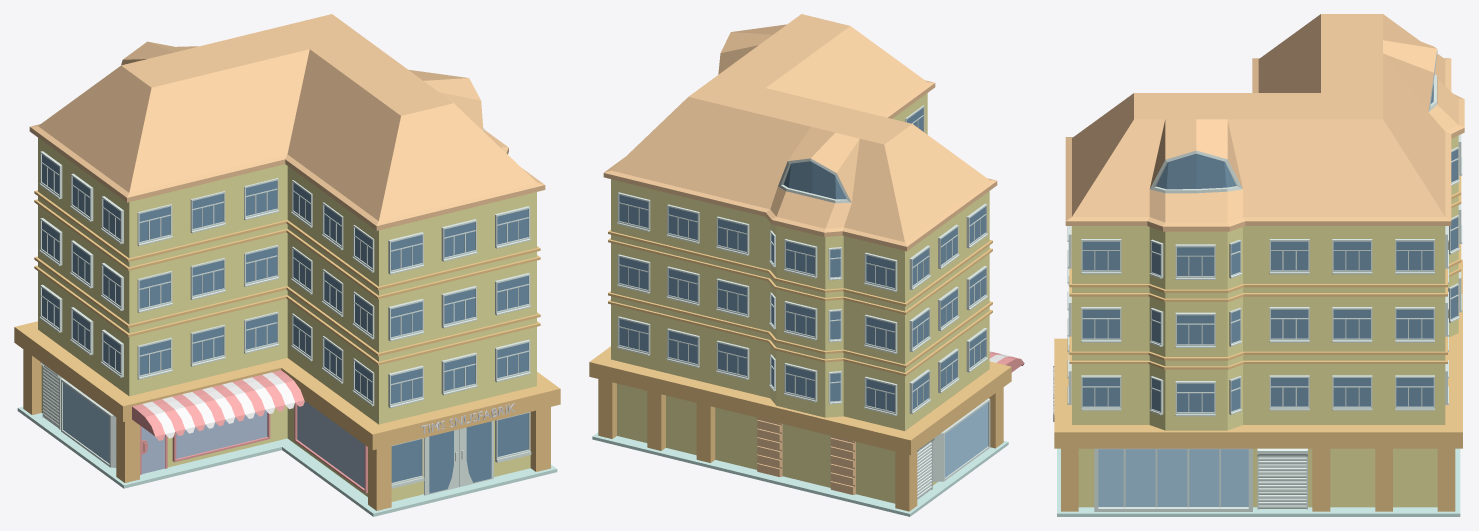
File: Tims_Snusfabrik.fbx
The picture shows the model from 3 angles, left to right: view 1: azimuth 30°, elevation 25°; view 2: azimuth 150°, elevation 25°; view 3: azimuth 270°, elevation 25°; orthographic projection. The views are drawn at different scales.
Visible parts, largest first — view 1: Building_facad.001, shed1.001, showcase.002, Cube.055, shed.001, Cube.052, Cube.056, Cube.069, Cube.065, Cube.063, Cube.064, Cube.051 (+23 smaller); view 2: Building_facad.001, showcase.002, Cube.062, Cube.059, Cube.057, Cube.058, blinds.002, Cube.063, glass.098, glass.095, glass.109, glass.101 (+23 smaller); view 3: Building_facad.001, showcase1.001, blinds.003, Cube.073, Cube.057, Cube.064, Cube.072, glass.130, glass.105, glass.135, glass.136, glass.137 (+25 smaller).
Boxes of the visible parts, <box> form: Building_facad.001: <box>14,14,560,516</box>; shed1.001: <box>132,370,304,440</box>; showcase.002: <box>61,378,116,467</box>; Cube.055: <box>297,401,364,488</box>; shed.001: <box>142,372,295,438</box>; Cube.052: <box>429,421,491,493</box>; Cube.056: <box>176,410,267,458</box>; Cube.069: <box>424,421,493,495</box>; Cube.065: <box>368,446,391,510</box>; Cube.063: <box>116,417,139,482</box>; Cube.064: <box>530,407,550,471</box>; Cube.051: <box>497,413,528,456</box>; Building_facad.001: <box>589,14,1011,516</box>; showcase.002: <box>932,398,990,481</box>; Cube.062: <box>895,451,917,511</box>; Cube.059: <box>696,403,715,462</box>; Cube.057: <box>598,379,616,438</box>; Cube.058: <box>647,391,665,450</box>; blinds.002: <box>917,438,934,499</box>; Cube.063: <box>989,387,1003,448</box>; glass.098: <box>668,331,697,363</box>; glass.095: <box>619,319,648,351</box>; glass.109: <box>668,269,697,301</box>; glass.101: <box>619,195,648,227</box>; Building_facad.001: <box>1054,14,1464,516</box>; showcase1.001: <box>1094,448,1252,511</box>; blinds.003: <box>1257,448,1307,509</box>; Cube.073: <box>1312,448,1330,511</box>; Cube.057: <box>1437,448,1455,511</box>; Cube.064: <box>1061,448,1078,511</box>; Cube.072: <box>1375,448,1392,511</box>; glass.130: <box>1333,309,1370,338</box>; glass.105: <box>1082,309,1119,338</box>; glass.135: <box>1177,247,1214,275</box>; glass.136: <box>1177,315,1214,344</box>; glass.137: <box>1177,383,1214,412</box>.
Bounding box in the file's own units: 2927 × 2876 × 2937.
